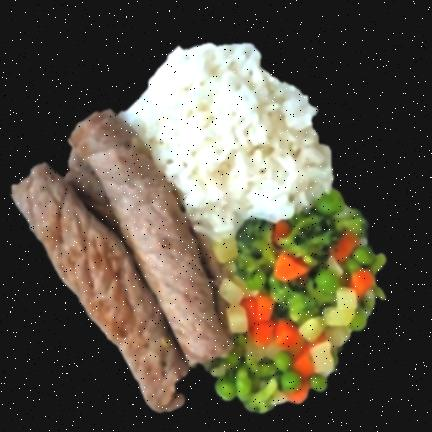green_vegetables: (205, 186, 386, 414)
meat: (8, 107, 231, 418)
rice: (112, 40, 335, 239)
